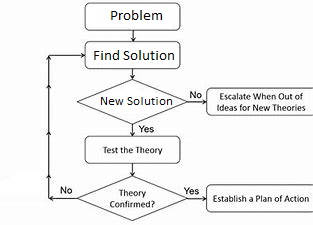arrow: (45, 83, 52, 133), (46, 130, 52, 176), (45, 54, 52, 86), (48, 52, 85, 58), (47, 195, 78, 201), (45, 175, 53, 198), (185, 98, 207, 105), (185, 195, 208, 201), (128, 67, 136, 80), (130, 28, 137, 42), (129, 122, 136, 135), (129, 162, 135, 176)
decision: (77, 175, 188, 222), (75, 79, 189, 124)
process: (205, 86, 313, 117), (205, 183, 313, 214), (83, 39, 181, 71), (83, 134, 182, 165), (83, 1, 183, 31)
text: (216, 92, 306, 112), (92, 49, 175, 61), (109, 188, 156, 209), (211, 193, 309, 203), (99, 94, 174, 106), (108, 7, 163, 21), (102, 145, 163, 156), (138, 123, 154, 134), (183, 186, 200, 196), (188, 89, 203, 99), (59, 185, 73, 195)
